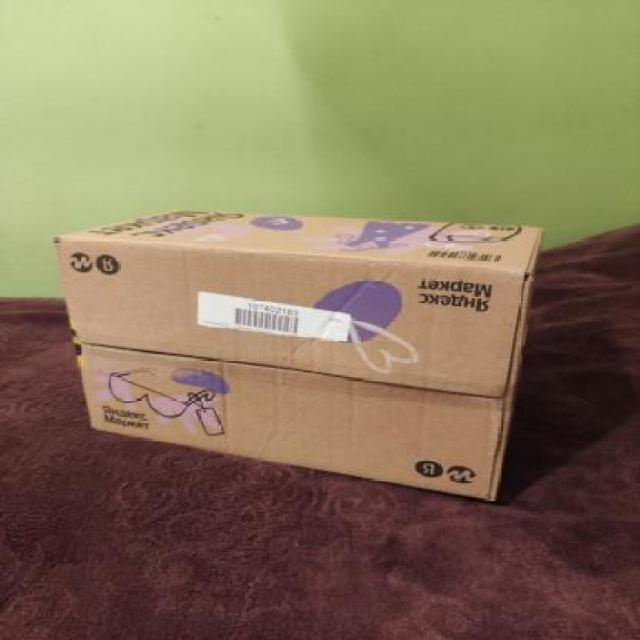box: (48, 200, 543, 504)
